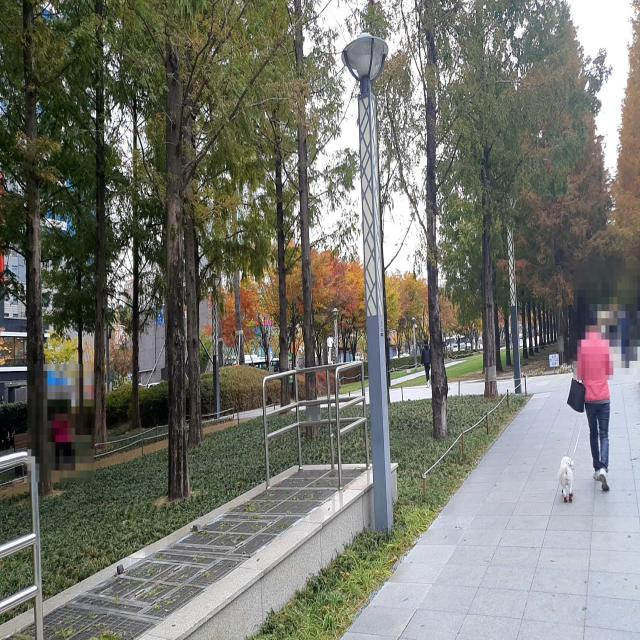Leashed_Dog: (558, 392, 598, 507)
